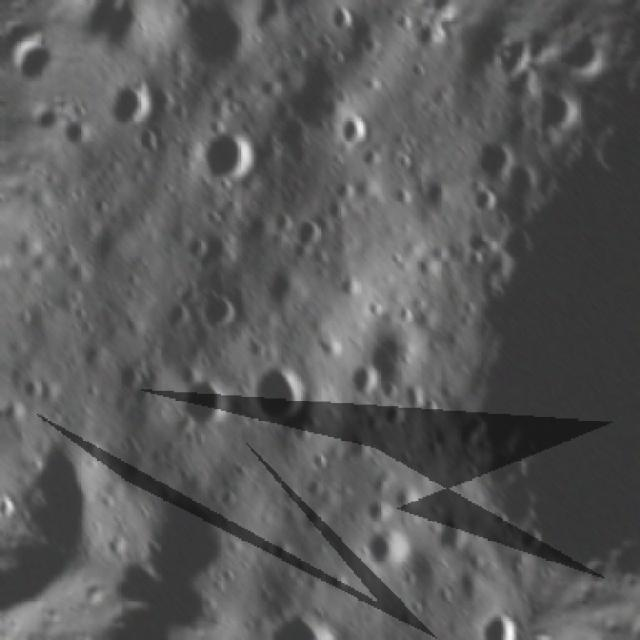crater: (112, 458, 266, 612), (0, 427, 145, 570), (150, 0, 273, 100), (334, 304, 438, 408), (225, 348, 322, 446), (178, 112, 272, 208), (512, 74, 591, 152), (166, 362, 242, 443), (252, 589, 366, 640), (91, 62, 166, 138), (449, 125, 525, 198), (176, 216, 250, 287), (348, 523, 424, 592), (419, 502, 483, 570), (252, 263, 314, 331), (488, 212, 548, 278), (322, 102, 381, 162), (188, 290, 248, 348), (274, 205, 332, 260), (227, 204, 281, 262), (466, 594, 532, 640), (441, 410, 494, 467), (320, 260, 374, 315), (335, 355, 388, 408), (124, 122, 173, 172), (506, 516, 554, 566), (309, 185, 357, 233), (405, 17, 452, 65), (104, 352, 150, 398), (379, 476, 424, 522), (5, 368, 50, 412), (154, 295, 197, 340), (316, 0, 362, 42), (460, 185, 502, 227), (372, 399, 412, 441), (323, 170, 362, 208), (493, 547, 530, 585), (0, 391, 32, 434), (412, 390, 448, 428), (237, 0, 314, 17), (356, 492, 392, 528), (382, 146, 418, 180), (125, 382, 158, 415), (428, 576, 459, 610)
